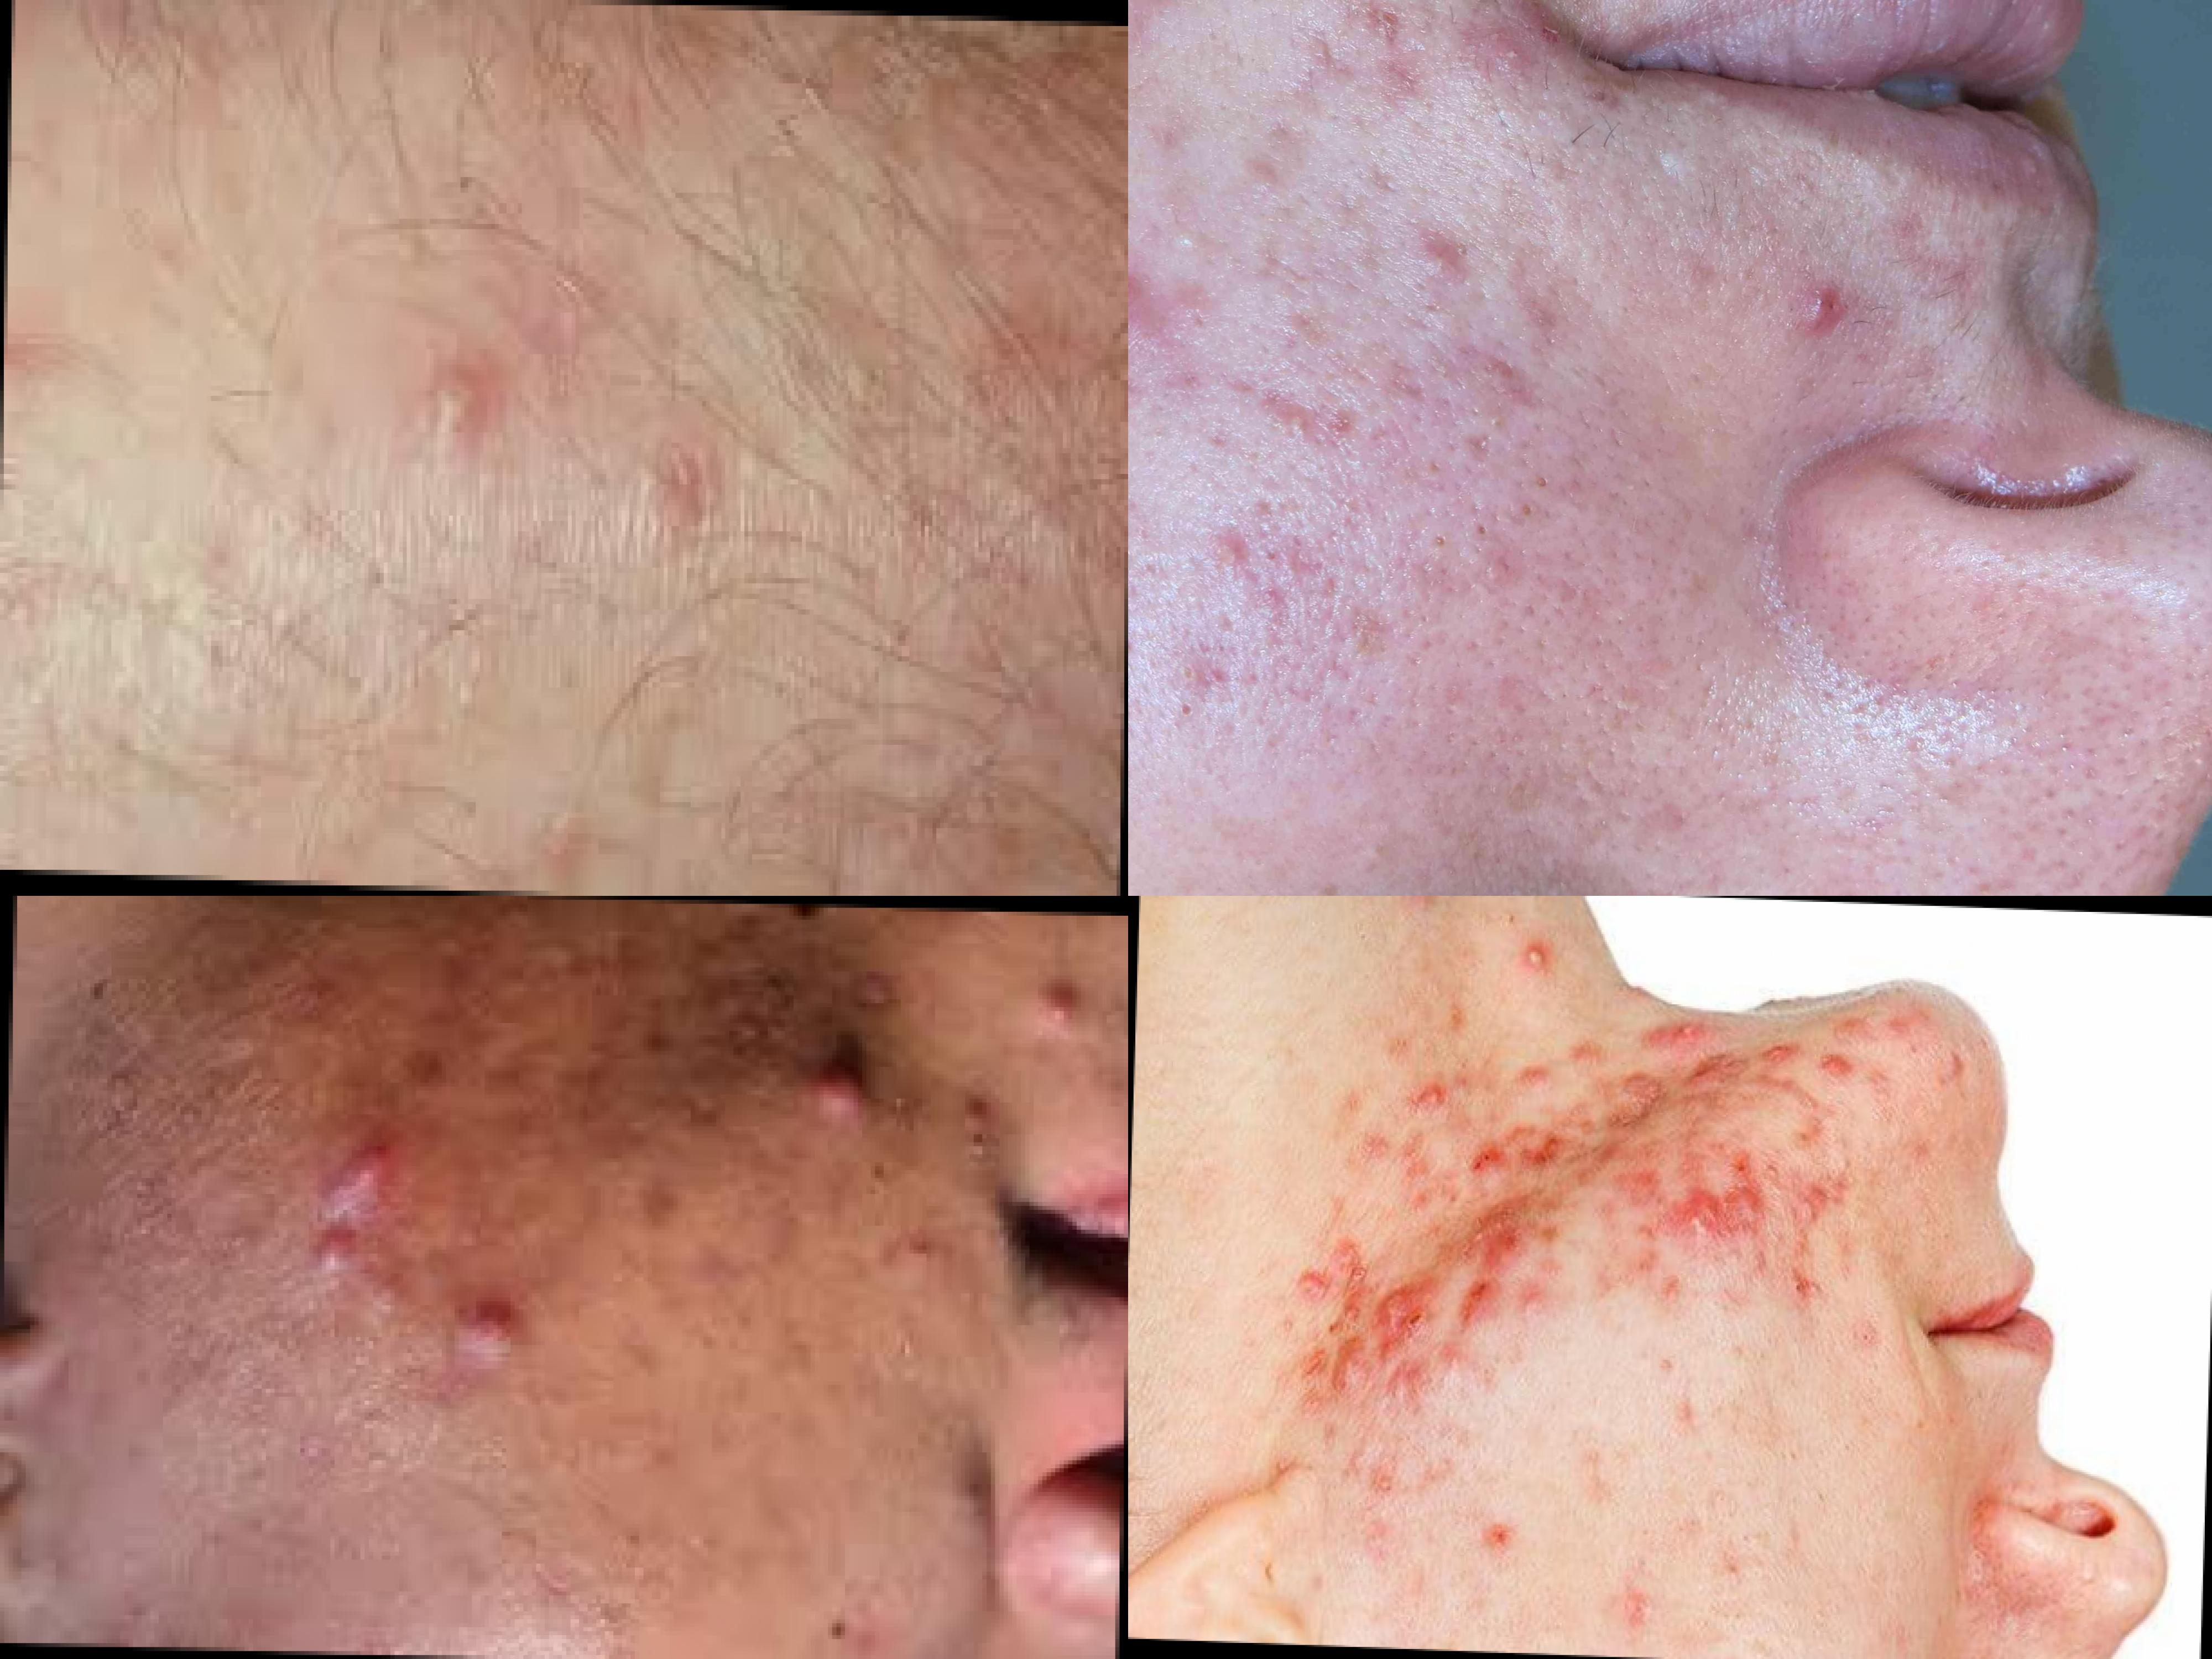acne_scars: (1296, 1328, 1371, 1415), (1606, 1072, 1683, 1141), (1618, 1157, 1674, 1222)
blackhead: (1820, 1290, 1895, 1394), (1613, 1495, 1684, 1588), (1709, 1514, 1770, 1601)
cystic: (265, 1105, 435, 1225), (434, 1286, 542, 1389), (798, 1049, 888, 1133)
papular: (1730, 223, 1878, 383), (1129, 223, 1244, 408), (242, 1216, 385, 1303), (1470, 1504, 1531, 1567), (1562, 1032, 1618, 1089), (1810, 1044, 1862, 1094), (1404, 1075, 1451, 1129), (1749, 1028, 1801, 1073), (1508, 1063, 1555, 1101)
purulent: (395, 336, 500, 477), (1369, 202, 1500, 298), (1480, 7, 1538, 106), (1021, 971, 1090, 1042), (1508, 920, 1566, 993), (1357, 1448, 1418, 1513)
sebo-crystan-conglo: (1454, 1194, 1548, 1354), (1440, 1119, 1583, 1199), (1670, 1157, 1775, 1263), (1622, 1002, 1733, 1077), (1369, 1265, 1446, 1368), (1275, 1262, 1334, 1324)
whitehead: (1822, 1107, 1883, 1215)
